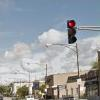Traffic light: (61, 8, 80, 52)
